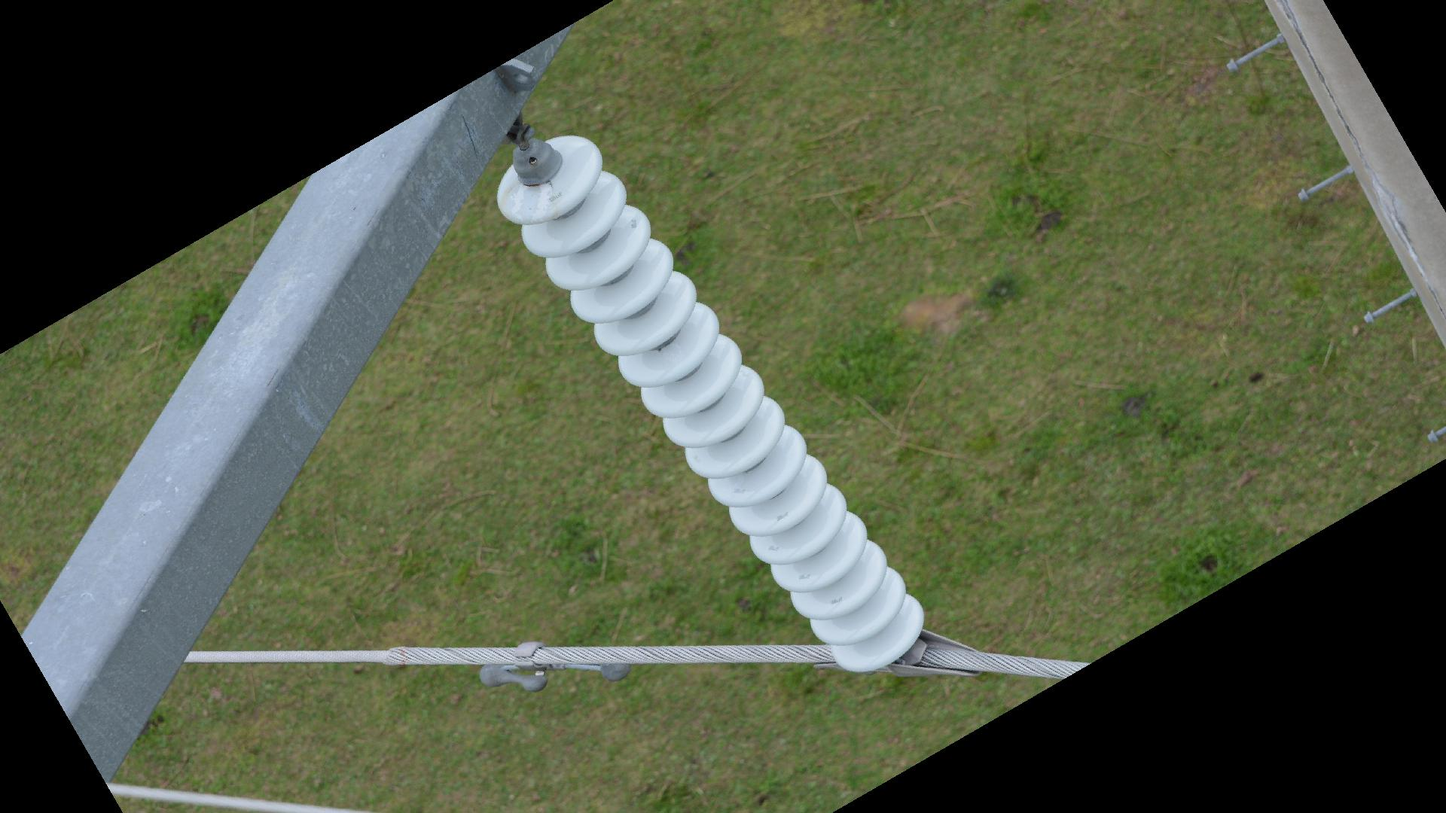insulator: (491, 128, 931, 681)
insulator_flashover: (512, 183, 546, 227)
